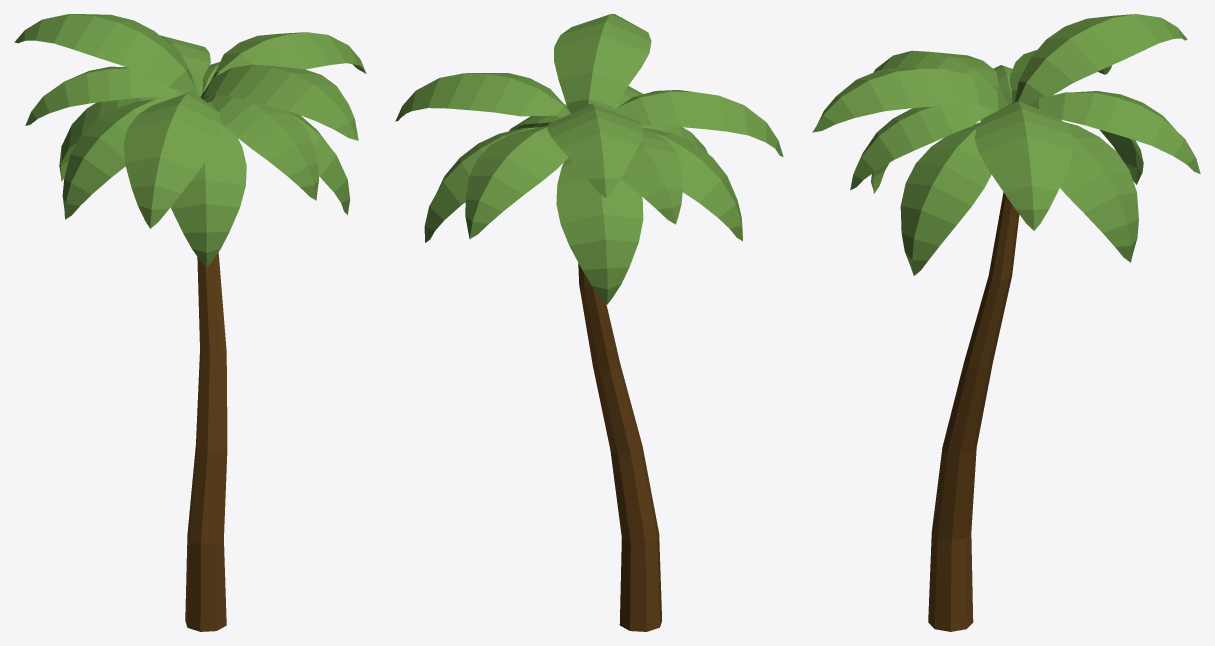
The model's file is palm_1.glb.
3 views of the same model, side by side, from view 1: azimuth 30°, elevation 25°; view 2: azimuth 150°, elevation 25°; view 3: azimuth 270°, elevation 25° (orthographic). The views are drawn at different scales.
Visible parts, largest first — view 1: Palm-tree; view 2: Palm-tree; view 3: Palm-tree.
Part boxes in pixels (box(x1,y1,x2,y2)): Palm-tree: box(14, 14, 366, 631); Palm-tree: box(395, 14, 783, 631); Palm-tree: box(812, 14, 1200, 631).
Size of the model in its own units: 3.24 by 5.4 by 3.24.
